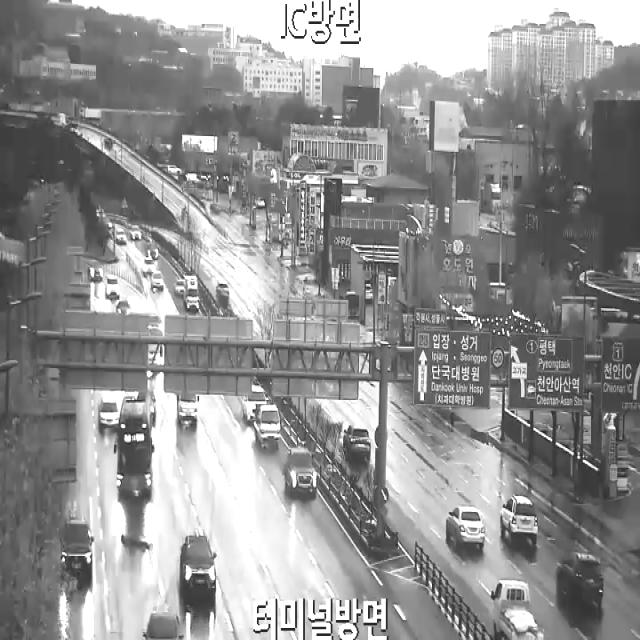Bus: (114, 398, 155, 494)
Car: (490, 579, 544, 640), (557, 553, 604, 603), (181, 535, 217, 593), (60, 521, 94, 575), (500, 496, 537, 544), (285, 448, 317, 496), (446, 507, 484, 546), (143, 614, 184, 640), (254, 405, 281, 442), (344, 425, 371, 461), (242, 386, 266, 422), (177, 393, 199, 423), (99, 396, 119, 428), (184, 275, 199, 310), (106, 275, 119, 297), (88, 263, 103, 280), (152, 270, 163, 289), (143, 257, 155, 274), (146, 244, 158, 259), (216, 283, 228, 298), (118, 300, 130, 314), (174, 280, 186, 294), (131, 225, 142, 239), (116, 230, 126, 243)
